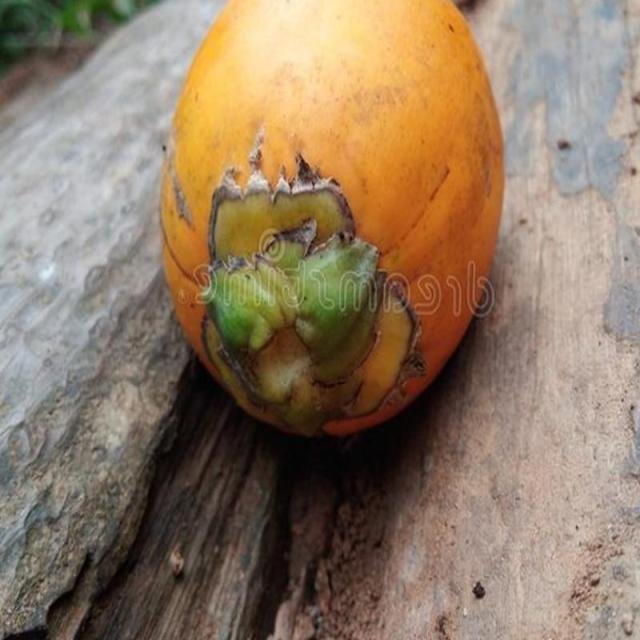good: (160, 0, 505, 442)
